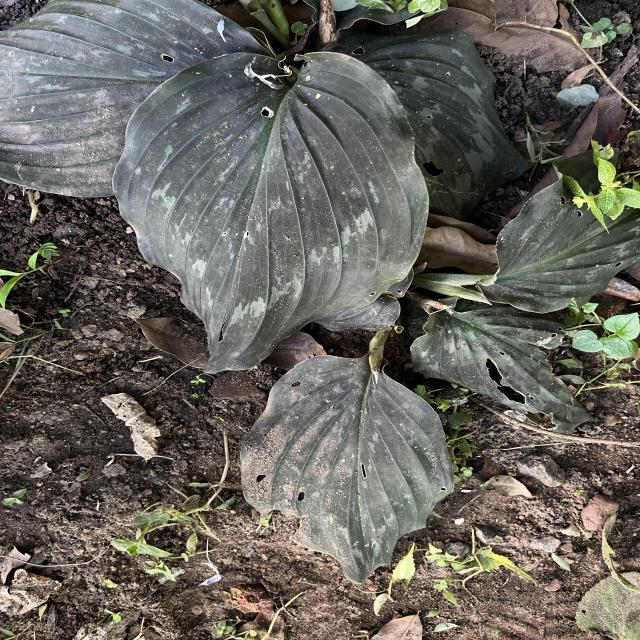Kaempferia galanga linn: (109, 49, 434, 378), (238, 351, 457, 587)
